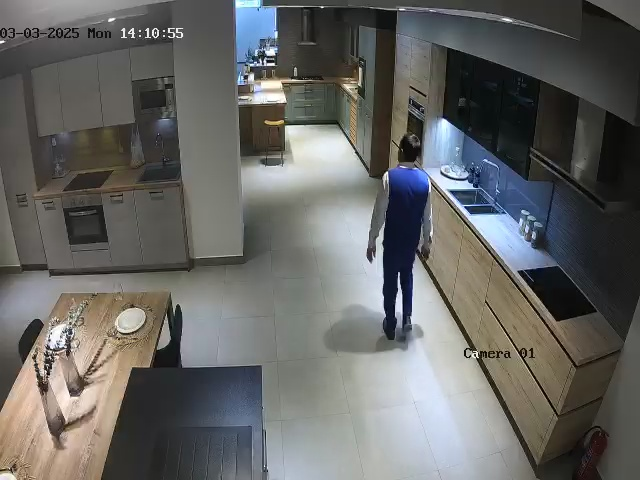employee: (366, 133, 433, 341)
